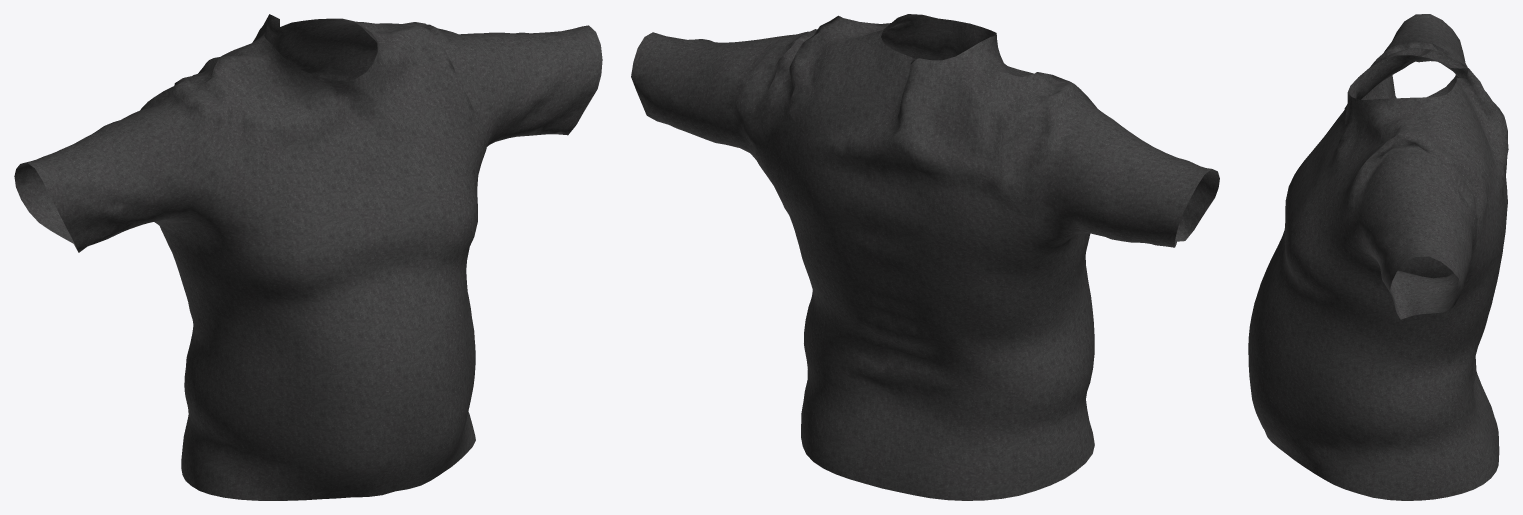
File: fatfart-tshirt.obj
3 renders of one model, left to right at view 1: azimuth 30°, elevation 25°; view 2: azimuth 150°, elevation 25°; view 3: azimuth 270°, elevation 25°, orthographic. The views are drawn at different scales.
Size of the model in its own units: 824 by 593 by 373.
Materials: 1 (1 with a texture image).
